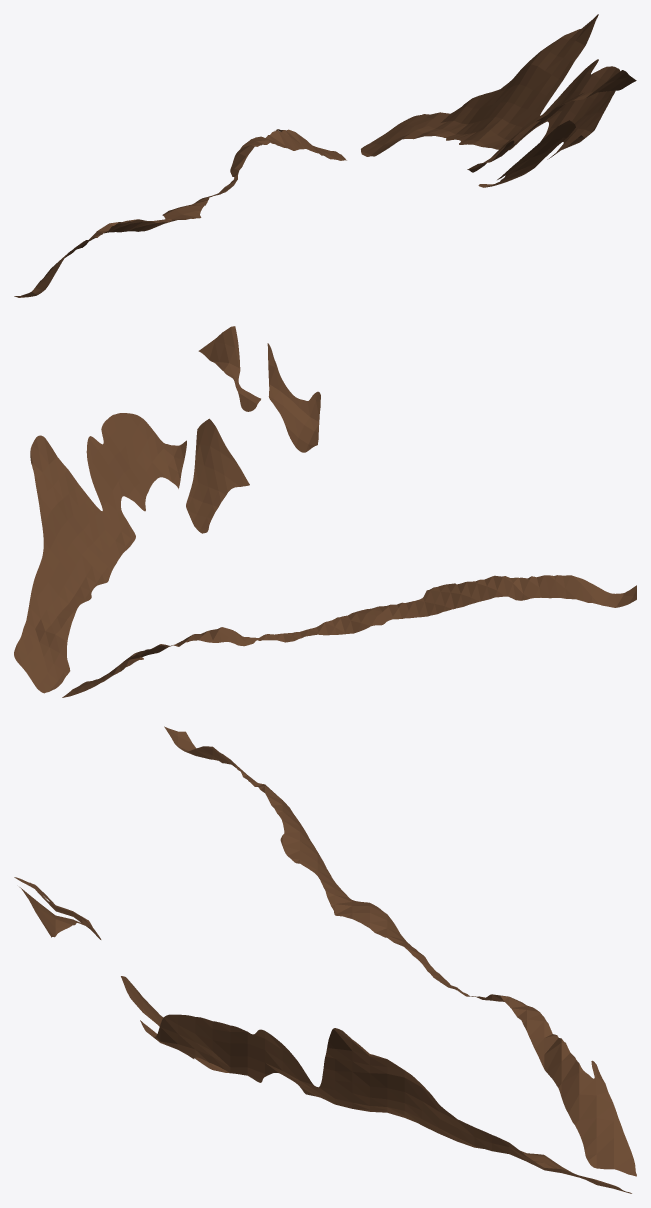
Rendered from 4_Browny (2).dae.
3 renders of one model, top to bottom at view 1: azimuth 30°, elevation 25°; view 2: azimuth 150°, elevation 25°; view 3: azimuth 270°, elevation 25°, orthographic. The views are drawn at different scales.
Visible parts, largest first — view 1: Object (×5); view 2: Object (×5); view 3: Object (×4).
Boxes of the visible parts, box(x1,y1,x2,y2) form: Object (×5): box(14, 14, 636, 297); Object (×5): box(14, 326, 636, 697); Object (×4): box(19, 726, 636, 1193).
Bounding box in the file's own units: 46.79 × 17.35 × 30.8.
